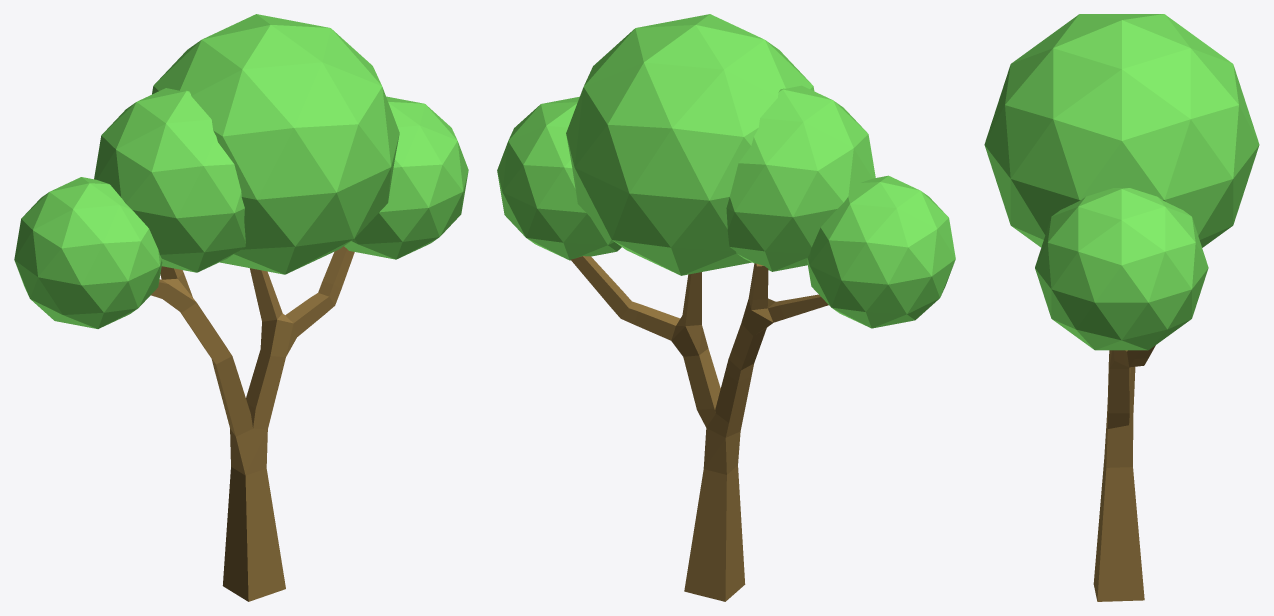
The model's file is Tree.fbx.
The picture shows the model from 3 angles, left to right: view 1: azimuth 30°, elevation 25°; view 2: azimuth 150°, elevation 25°; view 3: azimuth 270°, elevation 25°; orthographic projection. The views are drawn at different scales.
Parts seen in each view (by area): view 1: Icosphere.002, Icosphere.001, Vert, Icosphere, Icosphere.003; view 2: Icosphere.002, Vert, Icosphere.001, Icosphere, Icosphere.003; view 3: Icosphere.002, Icosphere.003, Vert.
Part boxes in pixels (bbox=[...]): Icosphere.002: bbox=[152, 14, 399, 274]; Icosphere.001: bbox=[94, 88, 245, 272]; Vert: bbox=[151, 246, 354, 601]; Icosphere: bbox=[14, 177, 162, 328]; Icosphere.003: bbox=[344, 96, 468, 259]; Icosphere.002: bbox=[566, 14, 814, 275]; Vert: bbox=[571, 256, 828, 601]; Icosphere.001: bbox=[726, 85, 875, 271]; Icosphere: bbox=[807, 175, 955, 328]; Icosphere.003: bbox=[497, 96, 621, 260]; Icosphere.002: bbox=[984, 14, 1259, 247]; Icosphere.003: bbox=[1035, 188, 1208, 350]; Vert: bbox=[1093, 345, 1155, 601].
Bounding box in the file's own units: 519 × 642 × 275.
